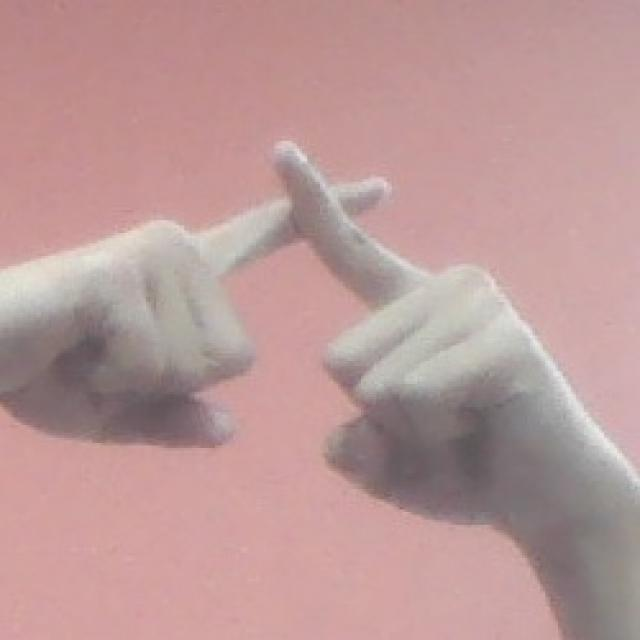Alphabet-X: (1, 134, 602, 549)
